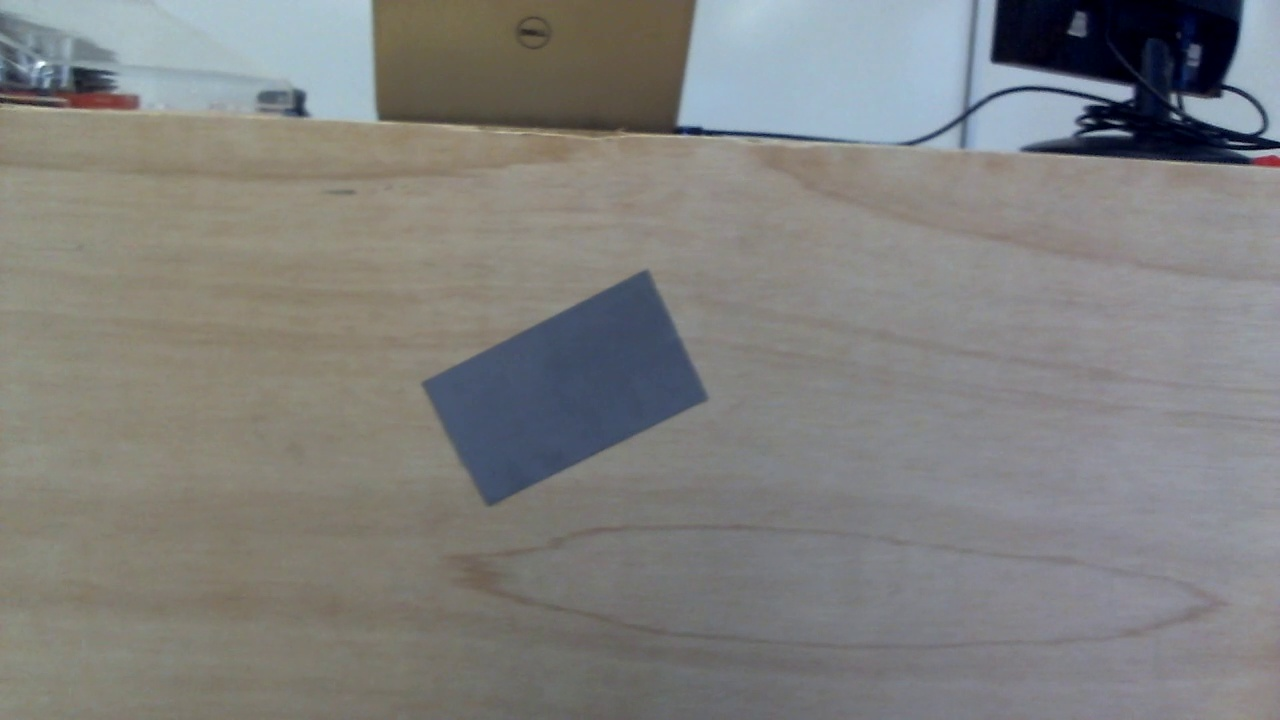Tape: (421, 272, 715, 507)
